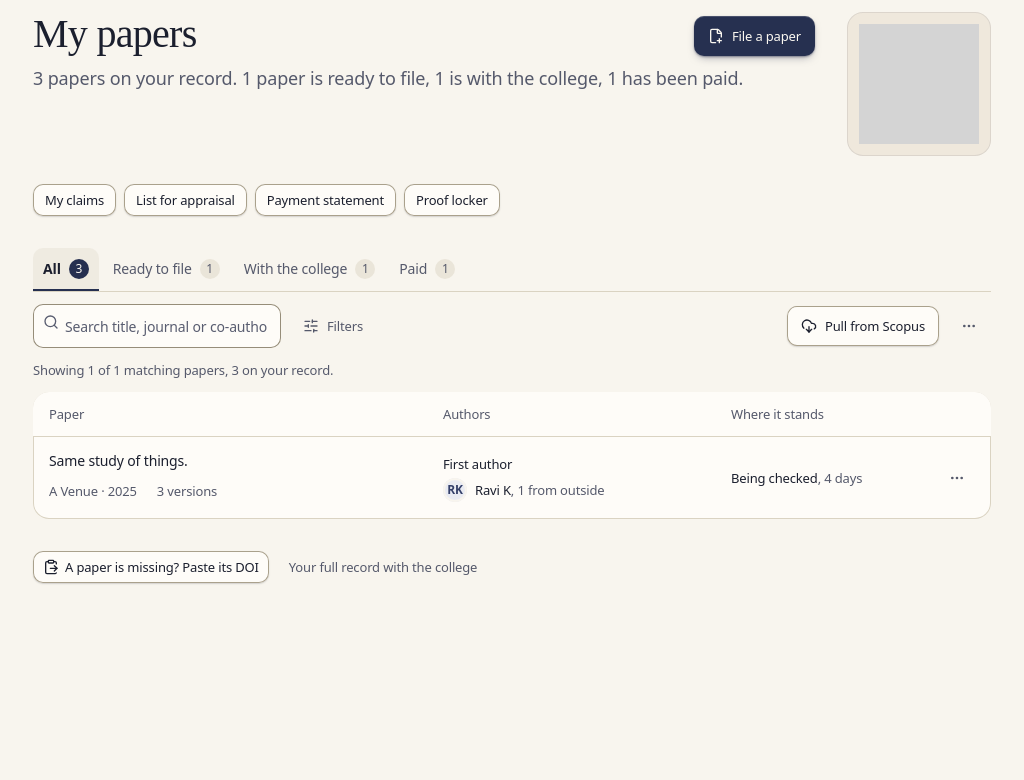
Test: My papers › leads with the version whose claim is in progress
This screenshot has width=1024, height=780.
Expected: the text "Being checked, 4 days" is shown, [731,468,862,488]
Expected: the text "Paid Mar 2026" is not shown
Click the button "3 versions". click: (187, 491)
box: [145,475,229,507]
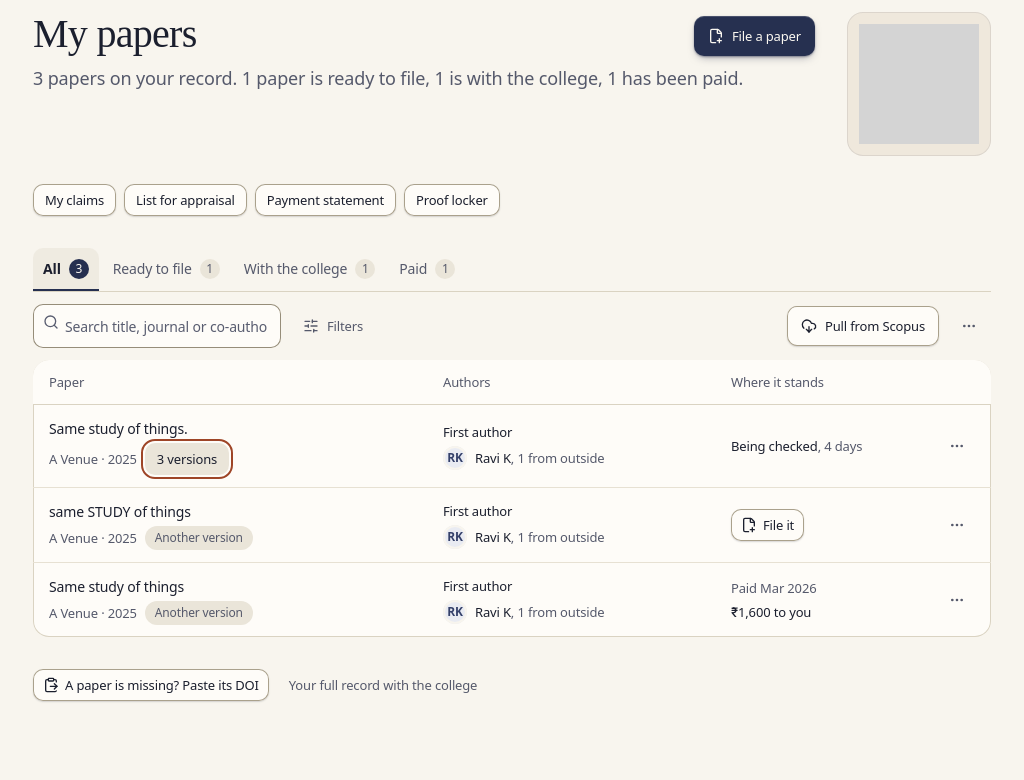
Expected: the text "Paid Mar 2026" is shown, [731,578,816,598]
